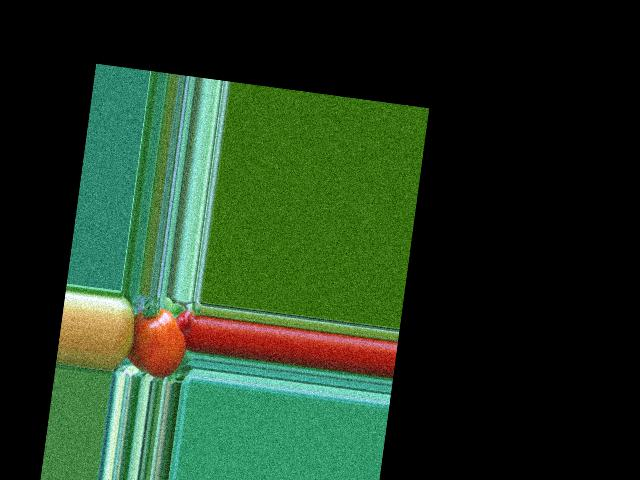tomato: (127, 305, 190, 380)
